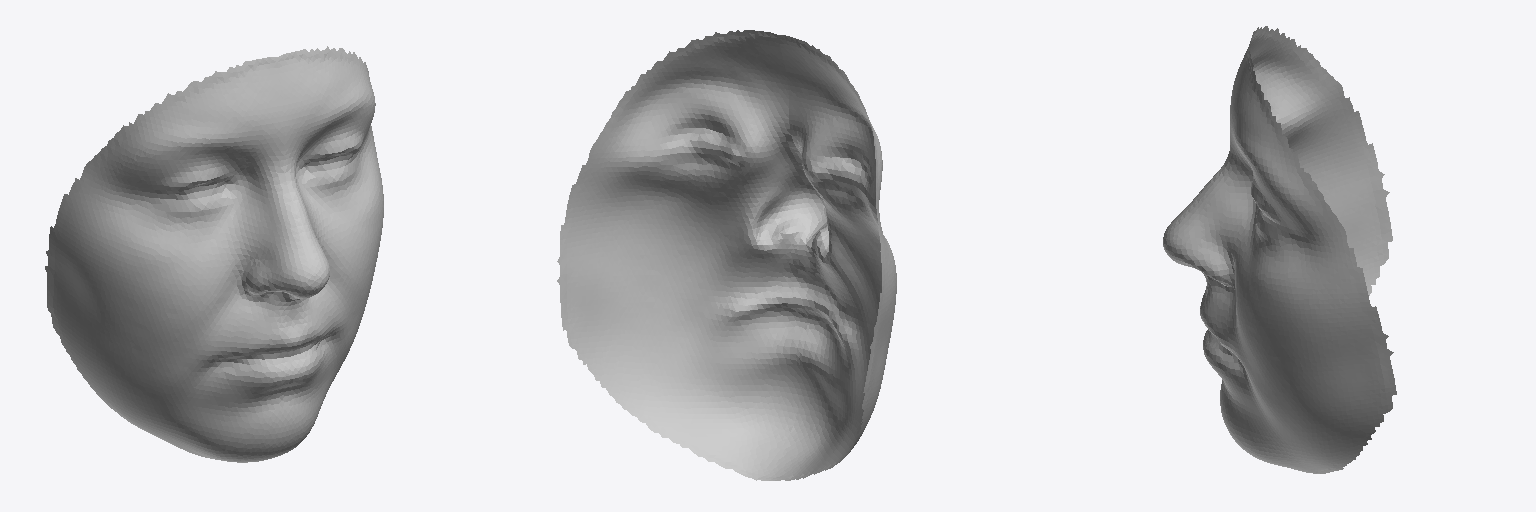
Rendered from SIMPOP_35.obj.
3 views of the same model, side by side, from view 1: azimuth 30°, elevation 25°; view 2: azimuth 150°, elevation 25°; view 3: azimuth 270°, elevation 25° (orthographic).
Parts seen in each view (by area): view 1: SIMPOP_35; view 2: SIMPOP_35; view 3: SIMPOP_35.
Boxes of the visible parts, <box> form: SIMPOP_35: <box>45,46,383,462</box>; SIMPOP_35: <box>557,30,896,480</box>; SIMPOP_35: <box>1163,26,1396,473</box>.
Size of the model in its own units: 141 by 178 by 89.73.